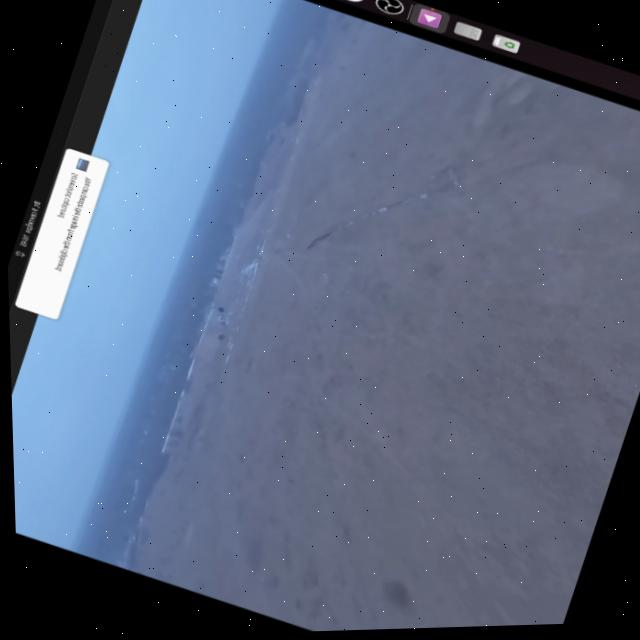planedrone: (198, 302, 244, 349)
